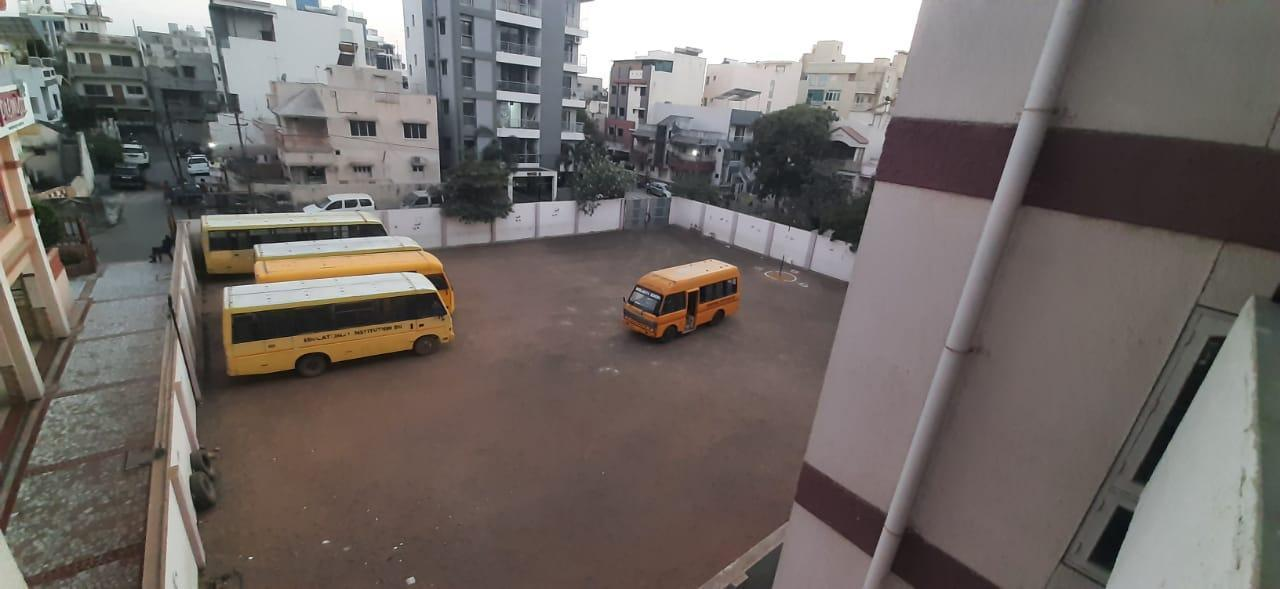Bus: (223, 278, 469, 389), (618, 248, 753, 359), (257, 251, 474, 304), (199, 212, 388, 265), (253, 234, 428, 256)
